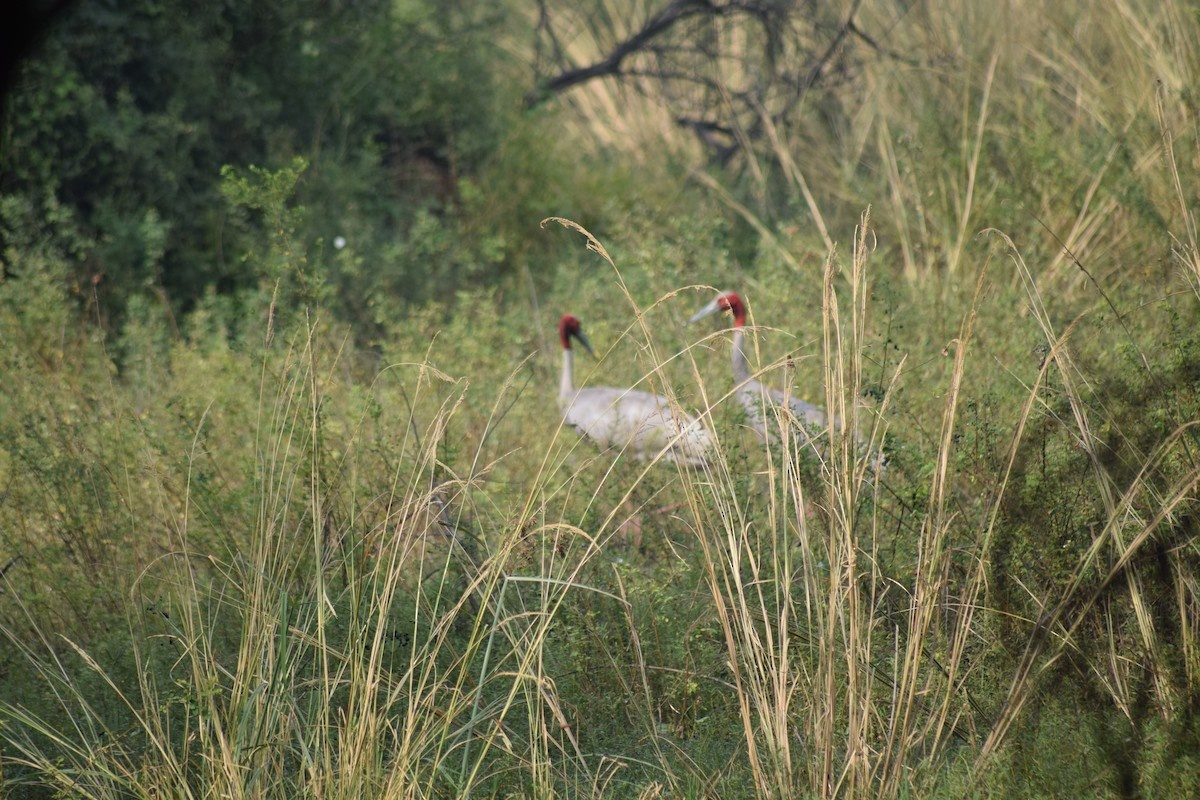crane: (553, 302, 716, 485), (695, 286, 773, 408)
